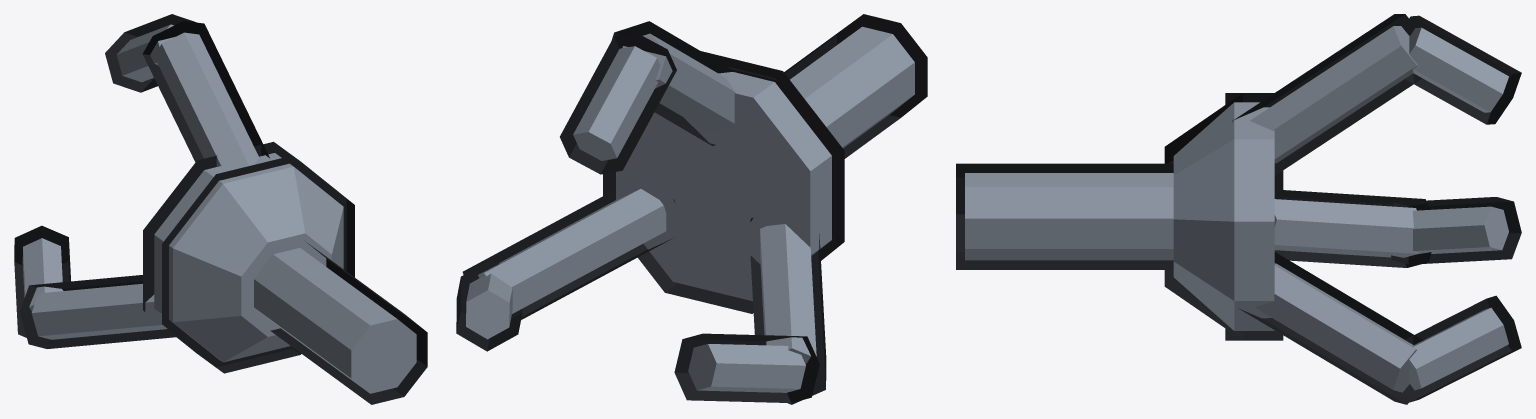
Rendered from HOOK.gltf.
3 renders of one model, left to right at view 1: azimuth 30°, elevation 25°; view 2: azimuth 150°, elevation 25°; view 3: azimuth 270°, elevation 25°, orthographic. The views are drawn at different scales.
Parts seen in each view (by area): view 1: HOOK; view 2: HOOK; view 3: HOOK.
Boxes of the visible parts, left/top/right/bottom form: HOOK: left=14, top=14, right=427, bottom=404; HOOK: left=456, top=14, right=927, bottom=404; HOOK: left=956, top=14, right=1521, bottom=404.
Bounding box in the file's own units: 0.1175 × 0.1057 × 0.1681.
